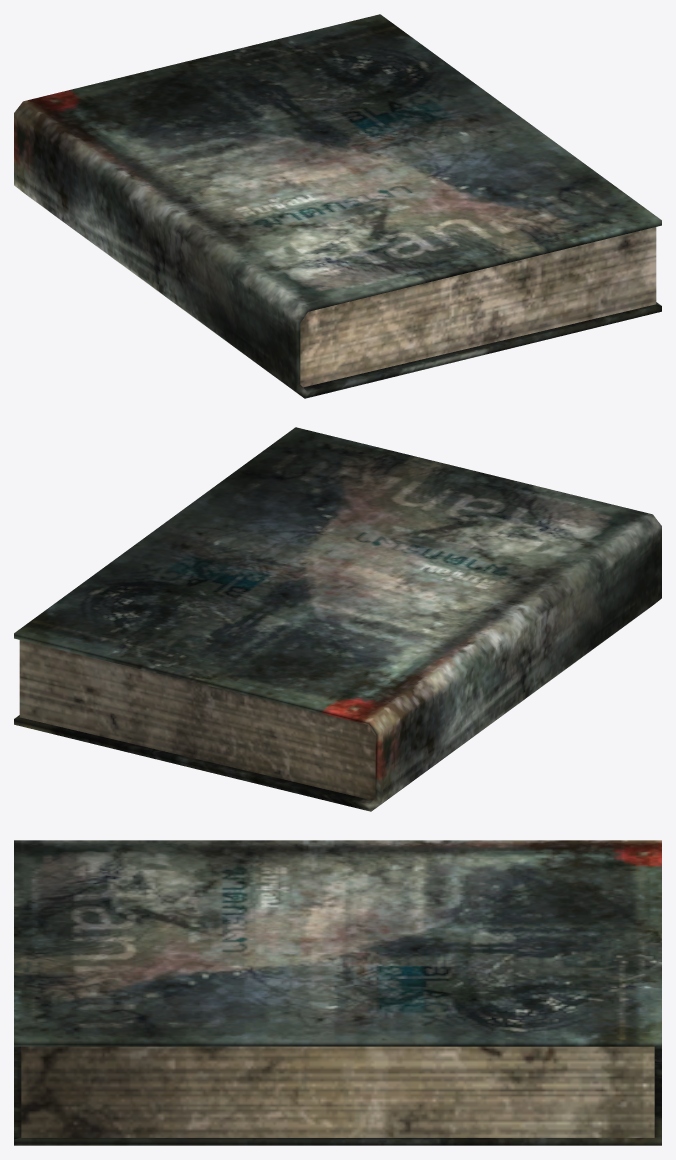
Rendered from book07.FBX.
3 renders of one model, top to bottom at view 1: azimuth 30°, elevation 25°; view 2: azimuth 150°, elevation 25°; view 3: azimuth 270°, elevation 25°, orthographic. The views are drawn at different scales.
Visible parts, largest first — view 1: SM_Book07; view 2: SM_Book07; view 3: SM_Book07.
Part boxes in pixels (<box>): SM_Book07: <box>14,14,661,398</box>; SM_Book07: <box>14,427,661,811</box>; SM_Book07: <box>14,840,661,1145</box>.
Bounding box in the file's own units: 22.46 × 5.35 × 29.91.
1 material, 1 textured.
